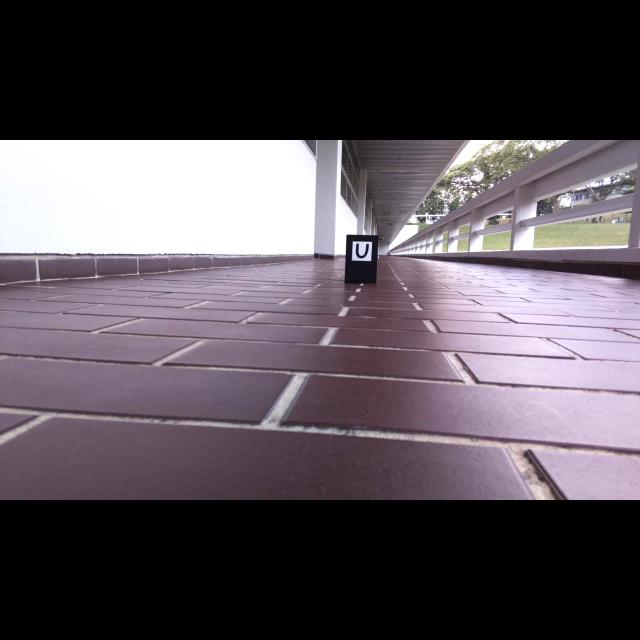U: (356, 243, 369, 258)
